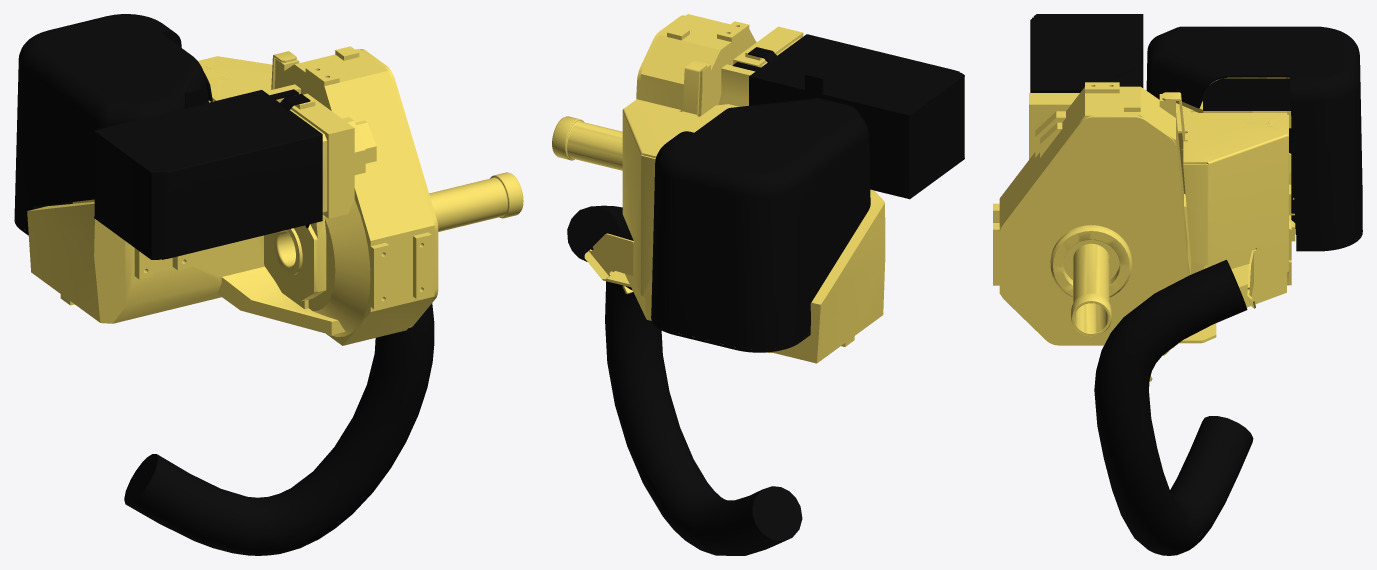
The picture shows the model from 3 angles, left to right: view 1: azimuth 30°, elevation 25°; view 2: azimuth 150°, elevation 25°; view 3: azimuth 270°, elevation 25°; orthographic projection. The views are drawn at different scales.
Parts seen in each view (by area): view 1: /Node_0x7fd4b7426dd0_003/meshId3_name_001-mesh/0, /Node_0x7fd4b7426dd0_002/meshId2_name_001-mesh/0, /Node_0x7fd4b7426dd0/meshId0_name_012-mesh/0, /Node_0x7fd4b7426dd0_001/meshId1_name_008-mesh/0; view 2: /Node_0x7fd4b7426dd0_001/meshId1_name_008-mesh/0, /Node_0x7fd4b7426dd0_003/meshId3_name_001-mesh/0, /Node_0x7fd4b7426dd0/meshId0_name_012-mesh/0, /Node_0x7fd4b7426dd0_002/meshId2_name_001-mesh/0; view 3: /Node_0x7fd4b7426dd0_003/meshId3_name_001-mesh/0, /Node_0x7fd4b7426dd0_001/meshId1_name_008-mesh/0, /Node_0x7fd4b7426dd0/meshId0_name_012-mesh/0, /Node_0x7fd4b7426dd0_002/meshId2_name_001-mesh/0.
Part boxes in pixels (<box>): /Node_0x7fd4b7426dd0_003/meshId3_name_001-mesh/0: <box>27,46,523,345</box>; /Node_0x7fd4b7426dd0_002/meshId2_name_001-mesh/0: <box>94,88,322,259</box>; /Node_0x7fd4b7426dd0/meshId0_name_012-mesh/0: <box>124,303,434,555</box>; /Node_0x7fd4b7426dd0_001/meshId1_name_008-mesh/0: <box>14,14,212,235</box>; /Node_0x7fd4b7426dd0_001/meshId1_name_008-mesh/0: <box>651,98,870,352</box>; /Node_0x7fd4b7426dd0_003/meshId3_name_001-mesh/0: <box>552,14,885,363</box>; /Node_0x7fd4b7426dd0/meshId0_name_012-mesh/0: <box>567,205,802,555</box>; /Node_0x7fd4b7426dd0_002/meshId2_name_001-mesh/0: <box>732,34,964,199</box>; /Node_0x7fd4b7426dd0_003/meshId3_name_001-mesh/0: <box>993,77,1295,381</box>; /Node_0x7fd4b7426dd0_001/meshId1_name_008-mesh/0: <box>1146,26,1362,251</box>; /Node_0x7fd4b7426dd0/meshId0_name_012-mesh/0: <box>1094,259,1253,555</box>; /Node_0x7fd4b7426dd0_002/meshId2_name_001-mesh/0: <box>1030,14,1143,92</box>.
Bounding box in the file's own units: 0.4602 × 0.5696 × 0.4064.
